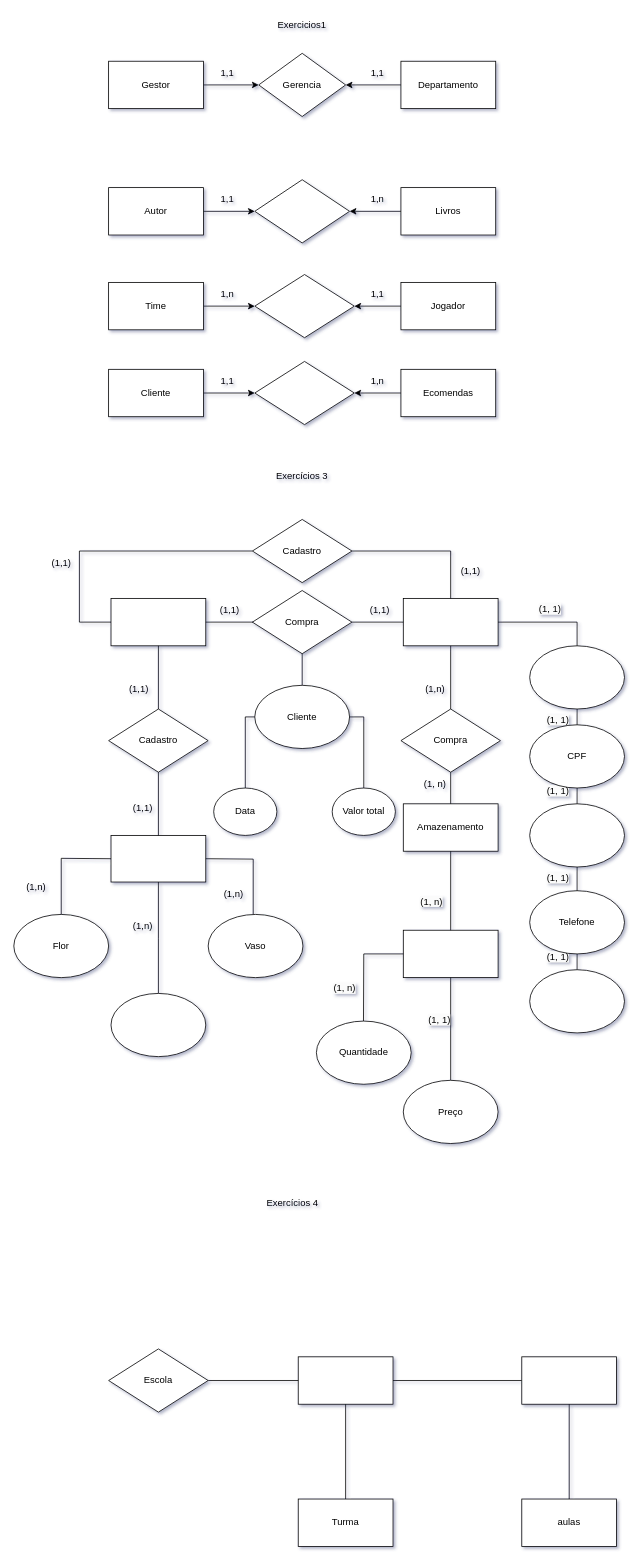
Some shapes in this 643 by 1565 pixel diagram are drawn without their labels. Here are the shapes that lost their labels. From the top down, the box of each, then its label:
(254, 179, 350, 243): Escreve
(254, 274, 354, 338): joga
(254, 361, 354, 425): Realiza
(110, 598, 206, 646): Foricultura
(403, 598, 498, 646): clientes
(529, 645, 624, 709): RG
(529, 803, 624, 867): Nome
(110, 835, 206, 882): produto
(403, 929, 498, 978): Estoque
(529, 969, 624, 1033): Endereço
(110, 993, 206, 1057): Planta
(297, 1356, 393, 1404): Turmas
(521, 1356, 617, 1404): Professores
